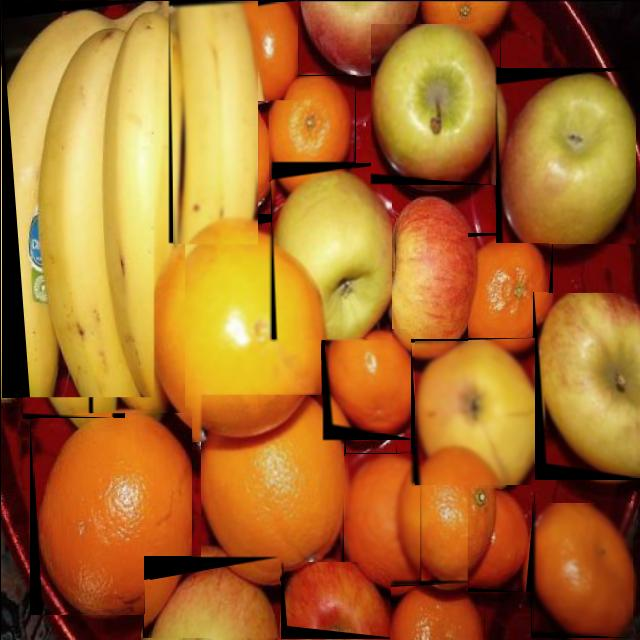Apple: (498, 73, 634, 243), (172, 2, 256, 244), (271, 170, 391, 339), (370, 25, 497, 179), (536, 293, 639, 478), (414, 341, 534, 485), (149, 565, 278, 638), (284, 563, 389, 638)
Banana: (4, 2, 151, 397), (22, 24, 123, 417), (89, 2, 183, 413)
Orange: (151, 226, 320, 442), (33, 412, 190, 614), (201, 395, 342, 578), (400, 443, 498, 584), (531, 504, 632, 636), (344, 455, 419, 588), (467, 236, 548, 347), (325, 329, 409, 433), (269, 77, 353, 181), (467, 489, 530, 589), (243, 2, 297, 100), (390, 585, 483, 637)
